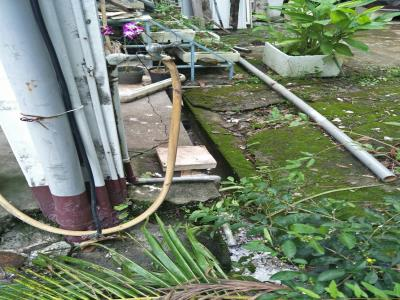box: (155, 143, 218, 171)
styrofoam: (260, 35, 347, 81), (176, 40, 240, 62), (143, 19, 196, 43)
